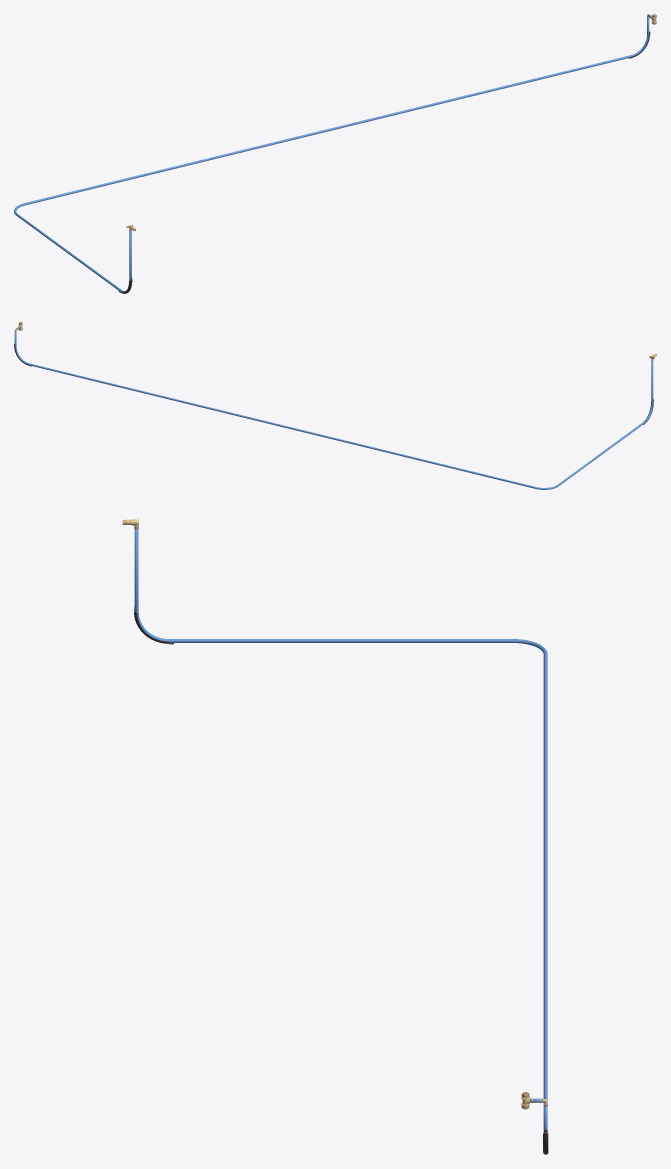
The model's file is slab_pipes_supply__water-city_filter_and_plumbing-pex+pex_branch.glb.
The picture shows the model from 3 angles, top to bottom: view 1: azimuth 30°, elevation 25°; view 2: azimuth 150°, elevation 25°; view 3: azimuth 270°, elevation 25°; orthographic projection. The views are drawn at different scales.
Visible parts, largest first — view 1: pipe_supply_branch_hosebib_front__pex; view 2: pipe_supply_branch_hosebib_front__pex; view 3: pipe_supply_branch_hosebib_front__pex.
Boxes of the visible parts, <box> form: pipe_supply_branch_hosebib_front__pex: <box>14,14,651,292</box>; pipe_supply_branch_hosebib_front__pex: <box>14,327,653,489</box>; pipe_supply_branch_hosebib_front__pex: <box>134,526,547,1133</box>.
Bounding box in the file's own units: 4.92 × 0.5424 × 1.68.
